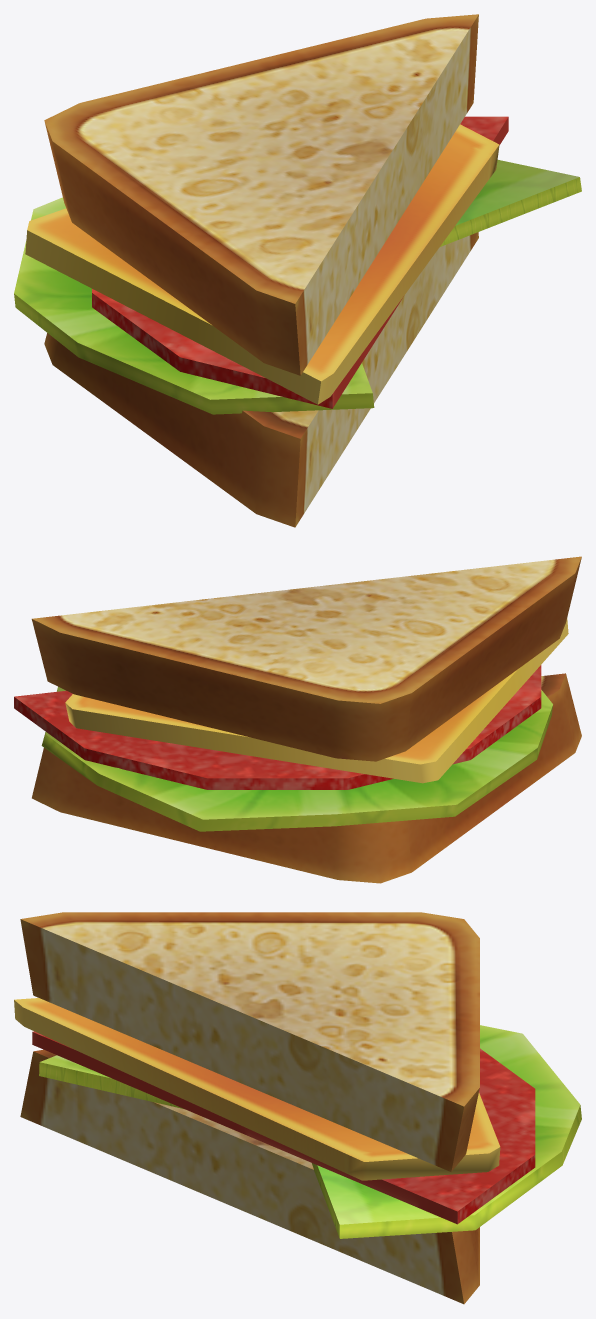
Rendered from SE_Sandwich_02.fbx.
The picture shows the model from 3 angles, top to bottom: view 1: azimuth 30°, elevation 25°; view 2: azimuth 150°, elevation 25°; view 3: azimuth 270°, elevation 25°; orthographic projection. The views are drawn at different scales.
Parts seen in each view (by area): view 1: SE_Sandwich_02; view 2: SE_Sandwich_02; view 3: SE_Sandwich_02.
Part boxes in pixels (x1=…): SE_Sandwich_02: x1=14, y1=14, x2=581, y2=527; SE_Sandwich_02: x1=14, y1=556, x2=581, y2=883; SE_Sandwich_02: x1=14, y1=912, x2=581, y2=1304.
Size of the model in its own units: 1.69 by 0.66 by 1.72.
